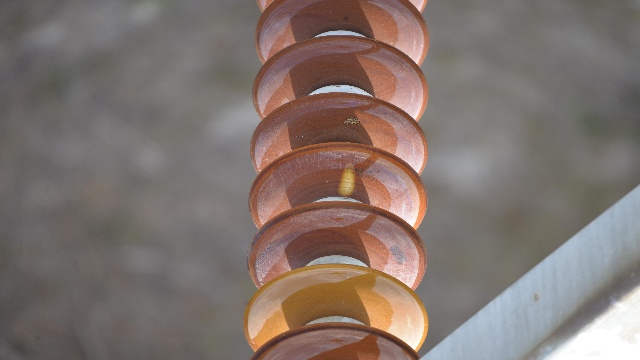insulator_unspecified: (244, 0, 430, 359)
pollution_flashover_local: (334, 161, 359, 202)
